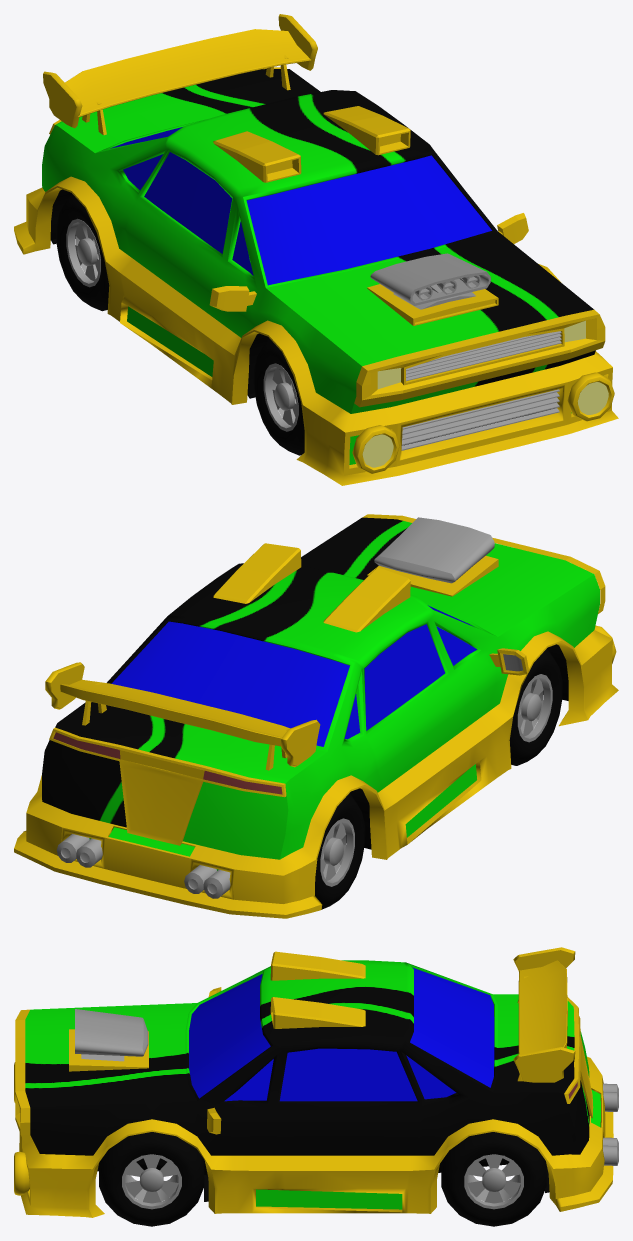
Rendered from Muscle Evolution4 Orange WaveBlackGreen Blue LightGrey.glb.
3 renders of one model, top to bottom at view 1: azimuth 30°, elevation 25°; view 2: azimuth 150°, elevation 25°; view 3: azimuth 270°, elevation 25°, orthographic. The views are drawn at different scales.
Parts seen in each view (by area): view 1: evo4_sillPartR_f1_dupl, evo4_evo4_polySurface1_f1_dupl, evo4_frontGlass_f1_dupl, evo4_Spoiler4_f1_dupl, evo4_frontBlockGrid_f1_dupl, evo4_glasseBigR_f1_dupl, evo4_engine_f1_dupl, evo4_front_down_grid_f1_dupl, evo4_airtrap_r_f1_dupl, evo4_airtrap_l_f1_dupl, evo4_front_up_grid_f1_dupl, evo4_tire_rf_f1_dupl (+11 smaller); view 2: evo4_sillPartR_f1_dupl, evo4_evo4_polySurface1_f1_dupl, evo4_BackGlassGlass_f1_dupl, evo4_Spoiler4_f1_dupl, evo4_blockBackLights_f1_dupl, evo4_engine_f1_dupl, evo4_glasseBigR_f1_dupl, evo4_airtrap_r_f1_dupl, evo4_airtrap_l_f1_dupl, evo4_tire_rf2_f1_dupl, evo4_tire_rf_f1_dupl, evo4_rim_A_rf_f1_dupl (+9 smaller); view 3: evo4_sillPartR_f1_dupl, evo4_evo4_polySurface1_f1_dupl, evo4_BackGlassGlass_f1_dupl, evo4_Spoiler4_f1_dupl, evo4_glasseBigL_f1_dupl, evo4_frontGlass_f1_dupl, evo4_tire_lf_f1_dupl, evo4_tire_lb_f1_dupl, evo4_engine_f1_dupl, evo4_rim_A_lf_f1_dupl, evo4_rim_A_lb_f1_dupl, evo4_airtrap_l_f1_dupl (+9 smaller).
Boxes of the visible parts, x1,y1,x2,y2 form: evo4_sillPartR_f1_dupl: [42, 69, 595, 464]; evo4_evo4_polySurface1_f1_dupl: [14, 176, 618, 485]; evo4_frontGlass_f1_dupl: [246, 155, 491, 285]; evo4_Spoiler4_f1_dupl: [43, 14, 317, 135]; evo4_frontBlockGrid_f1_dupl: [354, 309, 605, 407]; evo4_glasseBigR_f1_dupl: [144, 152, 232, 253]; evo4_engine_f1_dupl: [370, 253, 490, 309]; evo4_front_down_grid_f1_dupl: [401, 389, 559, 450]; evo4_airtrap_r_f1_dupl: [213, 131, 301, 182]; evo4_airtrap_l_f1_dupl: [323, 106, 410, 155]; evo4_front_up_grid_f1_dupl: [406, 331, 561, 381]; evo4_tire_rf_f1_dupl: [56, 194, 109, 311]; evo4_sillPartR_f1_dupl: [42, 517, 599, 870]; evo4_evo4_polySurface1_f1_dupl: [14, 630, 618, 918]; evo4_BackGlassGlass_f1_dupl: [111, 621, 349, 746]; evo4_Spoiler4_f1_dupl: [45, 662, 320, 770]; evo4_blockBackLights_f1_dupl: [49, 727, 286, 845]; evo4_engine_f1_dupl: [374, 517, 494, 583]; evo4_glasseBigR_f1_dupl: [364, 624, 444, 730]; evo4_airtrap_r_f1_dupl: [323, 567, 410, 632]; evo4_airtrap_l_f1_dupl: [213, 543, 301, 603]; evo4_tire_rf2_f1_dupl: [509, 648, 562, 765]; evo4_tire_rf_f1_dupl: [315, 793, 365, 909]; evo4_rim_A_rf_f1_dupl: [517, 674, 552, 742]; evo4_sillPartR_f1_dupl: [25, 960, 600, 1209]; evo4_evo4_polySurface1_f1_dupl: [19, 1056, 613, 1217]; evo4_BackGlassGlass_f1_dupl: [410, 967, 494, 1087]; evo4_Spoiler4_f1_dupl: [513, 947, 575, 1082]; evo4_glasseBigL_f1_dupl: [279, 1048, 417, 1101]; evo4_frontGlass_f1_dupl: [189, 974, 270, 1098]; evo4_tire_lf_f1_dupl: [99, 1132, 204, 1226]; evo4_tire_lb_f1_dupl: [441, 1132, 546, 1226]; evo4_engine_f1_dupl: [75, 1009, 148, 1061]; evo4_rim_A_lf_f1_dupl: [122, 1154, 181, 1209]; evo4_rim_A_lb_f1_dupl: [464, 1154, 523, 1209]; evo4_airtrap_l_f1_dupl: [270, 997, 365, 1028].
Size of the model in its own units: 177 by 120 by 337.
Materials: 8 (1 with a texture image).
